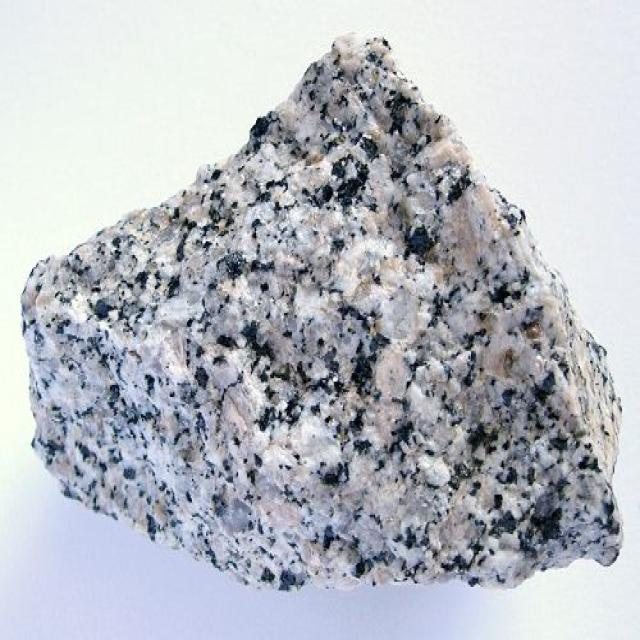Igneous: (1, 48, 630, 628)
